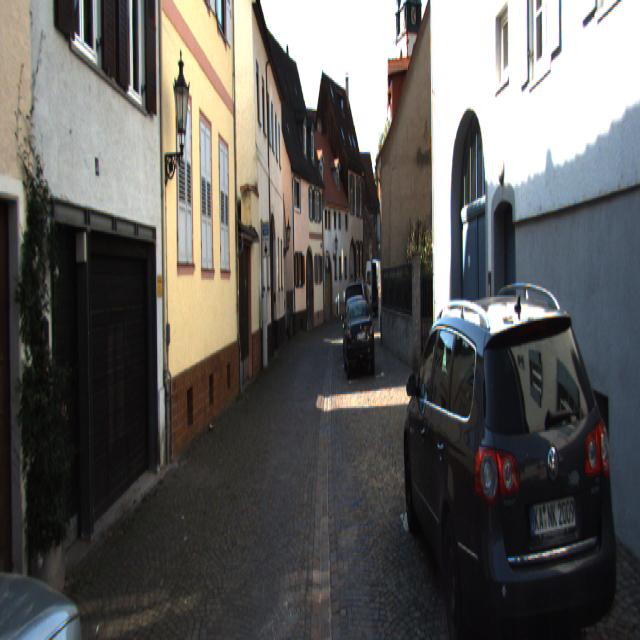Car: (401, 272, 629, 638), (0, 374, 97, 638), (343, 299, 374, 379)
DontCare: (0, 551, 90, 637)
Van: (366, 260, 387, 319)
